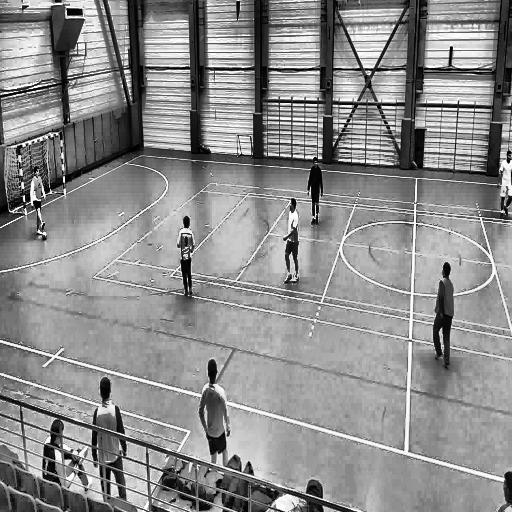ball: (41, 228, 48, 244)
player: (91, 374, 128, 505), (198, 356, 230, 469), (432, 260, 456, 374), (281, 196, 301, 288), (176, 215, 196, 302), (29, 164, 47, 237), (307, 155, 325, 228), (496, 146, 512, 221)
